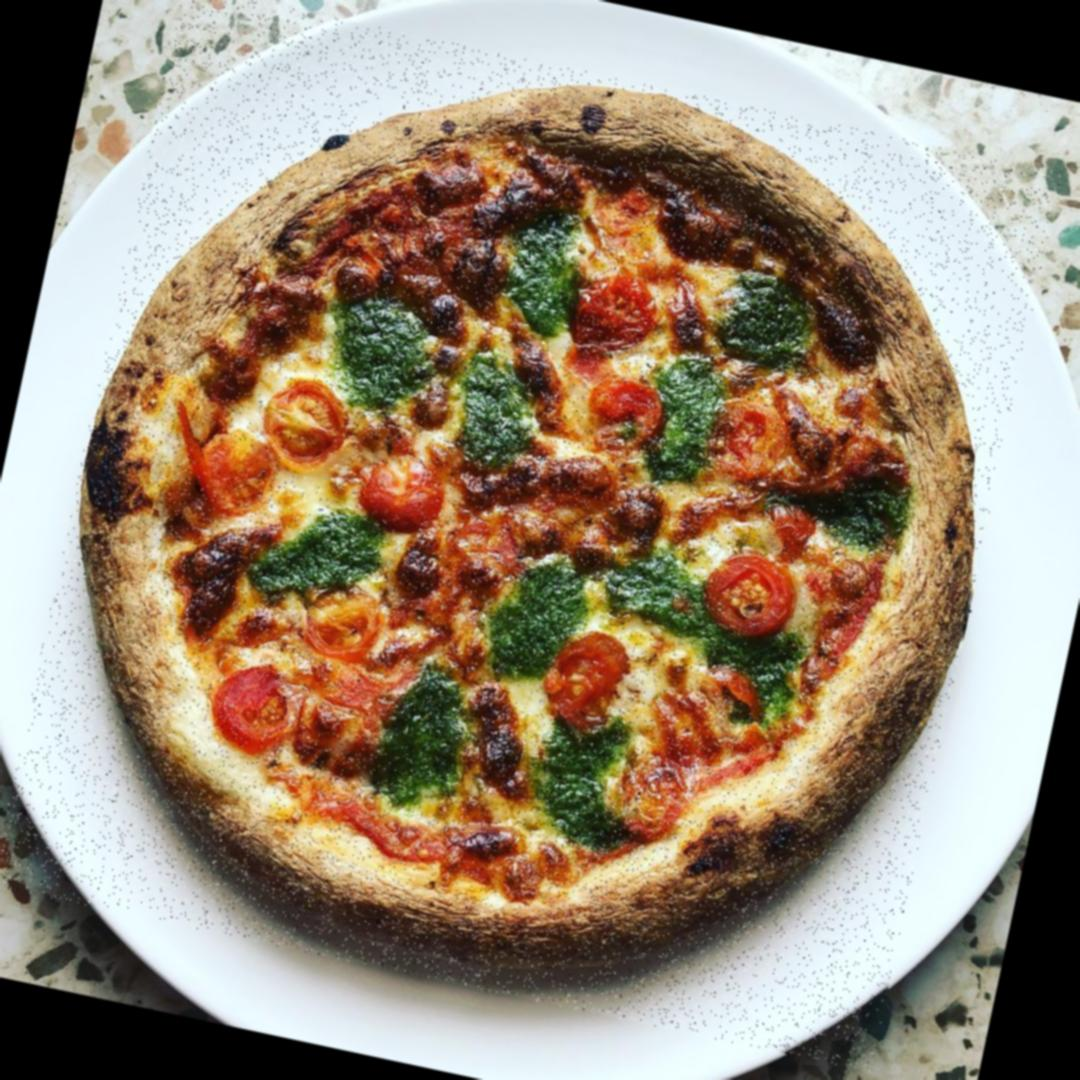Basil: (246, 488, 397, 627), (358, 659, 485, 824), (477, 548, 604, 701), (524, 716, 643, 858), (696, 258, 834, 376), (330, 284, 448, 410), (443, 348, 554, 474), (642, 356, 742, 494), (802, 462, 919, 569), (500, 217, 600, 342), (606, 545, 726, 646), (702, 620, 810, 724)
Pizza: (0, 0, 1062, 1073)
Tomatoes: (688, 544, 805, 652), (201, 650, 308, 764), (256, 381, 360, 484), (542, 628, 634, 740), (604, 749, 704, 850), (576, 264, 670, 369), (572, 366, 668, 466), (184, 422, 284, 518), (700, 392, 796, 490), (356, 444, 452, 540), (298, 582, 394, 668), (770, 498, 829, 562)
